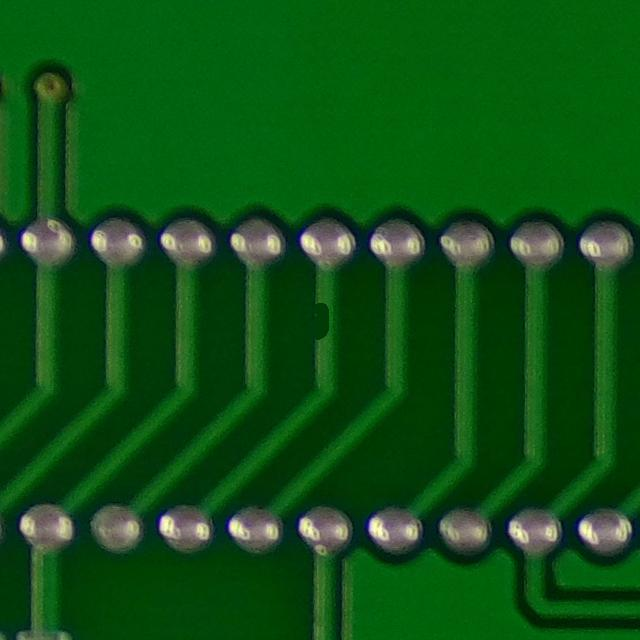mouse_bite: (295, 292, 346, 349)
